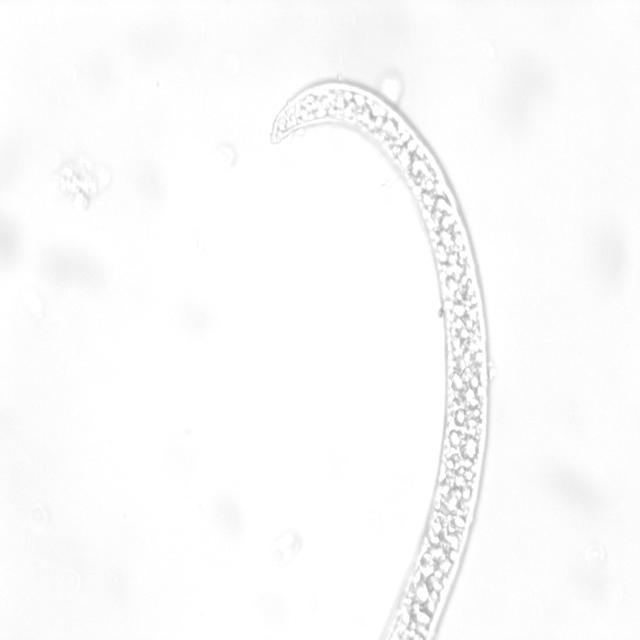Helicotylenchus: (271, 75, 503, 640)
